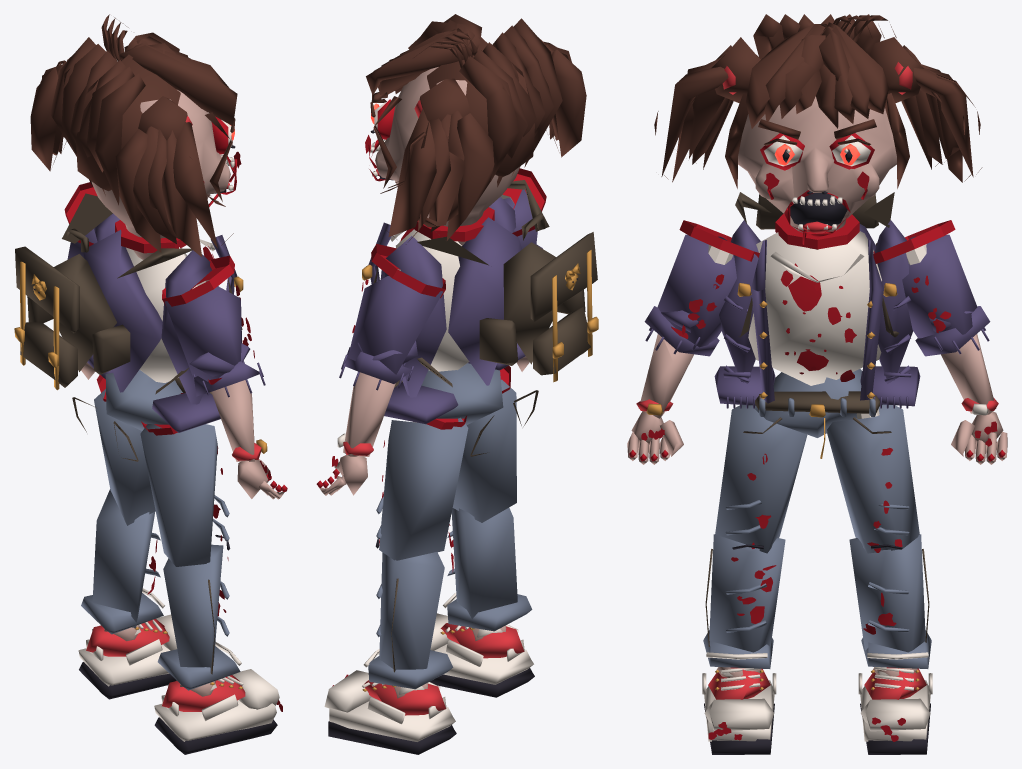
The picture shows the model from 3 angles, left to right: view 1: azimuth 30°, elevation 25°; view 2: azimuth 150°, elevation 25°; view 3: azimuth 270°, elevation 25°; orthographic projection. The views are drawn at different scales.
Visible parts, largest first — view 1: head, torso, backpackSocket, legR, footR, shinL, shinR, armR, footL, legL, hip, foreArmR (+4 smaller); view 2: head, torso, backpackSocket, legL, shinL, footL, shinR, armL, legR, footR, hip, foreArmL (+5 smaller); view 3: head, torso, legL, legR, shinR, shinL, armR, armL, footL, footR, hip, foreArmR (+7 smaller).
Part boxes in pixels (x1,y1,x2,y2): head: (30,14,241,259); torso: (62,193,243,432); backpackSocket: (14,228,130,390); legR: (140,424,230,566); footR: (154,669,282,754); shinL: (81,489,164,634); shinR: (157,544,241,690); armR: (165,285,265,397); footL: (78,614,177,699); legL: (94,389,155,525); hip: (72,370,211,461); foreArmR: (211,380,267,461); head: (365,14,586,245); torso: (362,180,549,424); backpackSocket: (479,212,598,382); legL: (375,417,468,560); shinL: (363,552,453,689); footL: (324,670,456,754); shinR: (443,507,532,631); armL: (339,276,442,390); legR: (452,379,516,522); footR: (429,613,534,697); hip: (394,363,538,456); foreArmL: (337,372,395,456); head: (654,14,982,249); torso: (714,192,920,408); legL: (827,404,919,553); legR: (715,405,807,553); shinR: (703,534,785,668); shinL: (849,534,931,668); armR: (644,234,736,356); armL: (902,234,990,356); footL: (858,667,932,754); footR: (702,667,776,754); hip: (743,369,891,458); foreArmR: (636,334,693,418).
Size of the model in its own units: 0.5514 by 1.8 by 0.8899.
